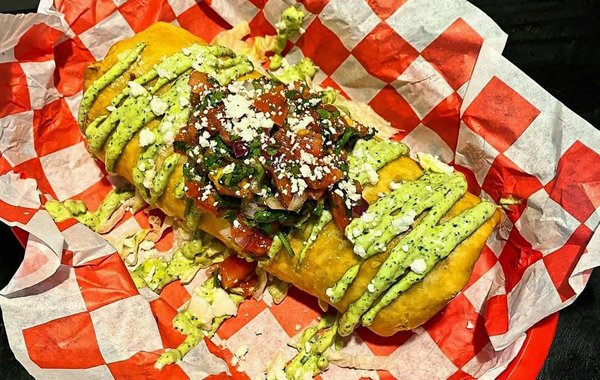curry: (2, 2, 598, 371)
pizza: (215, 299, 268, 340), (153, 227, 175, 252)
sandwich: (47, 17, 523, 343)
